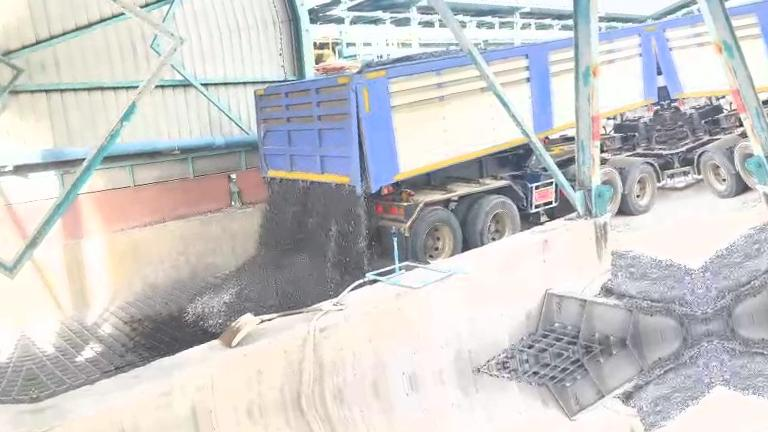gravel: (186, 180, 371, 331), (601, 250, 707, 331), (357, 48, 463, 73)
